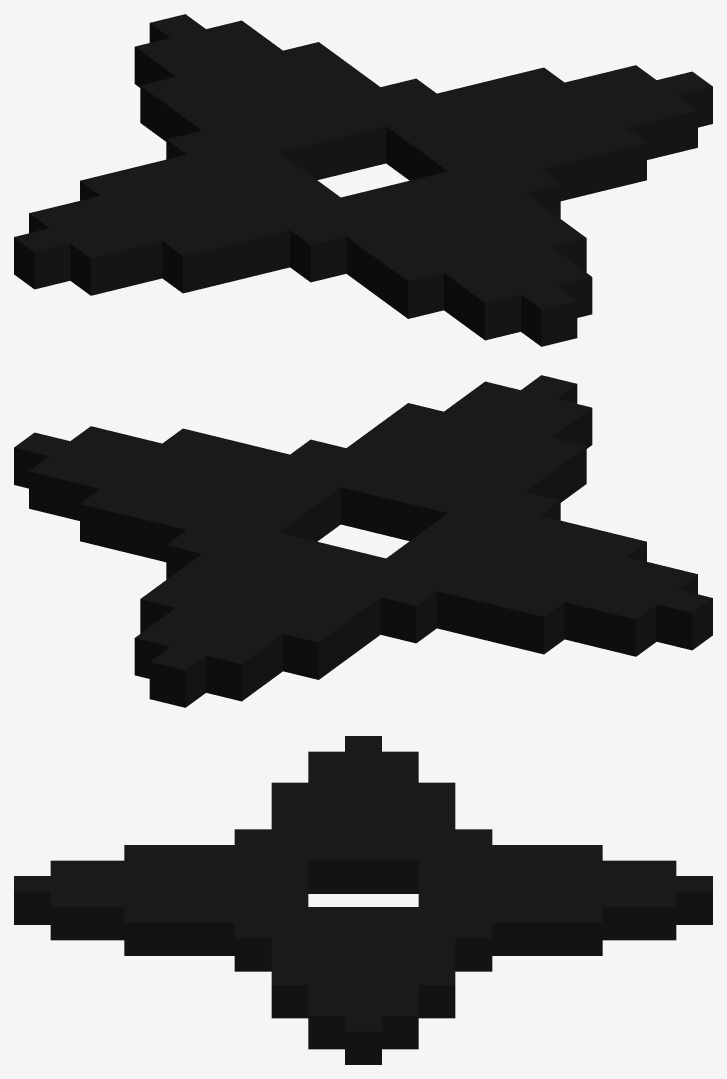
Rendered from Shuriken.obj.
The picture shows the model from 3 angles, top to bottom: view 1: azimuth 30°, elevation 25°; view 2: azimuth 150°, elevation 25°; view 3: azimuth 270°, elevation 25°; orthographic projection. The views are drawn at different scales.
Bounding box in the file's own units: 1.9 × 0.1 × 1.9.
1 material, 1 textured.
